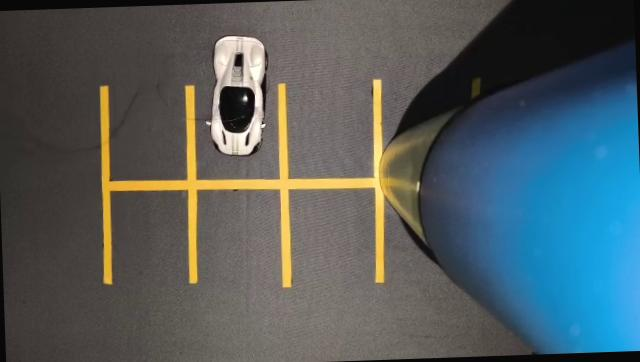toy_car: (185, 23, 298, 178)
